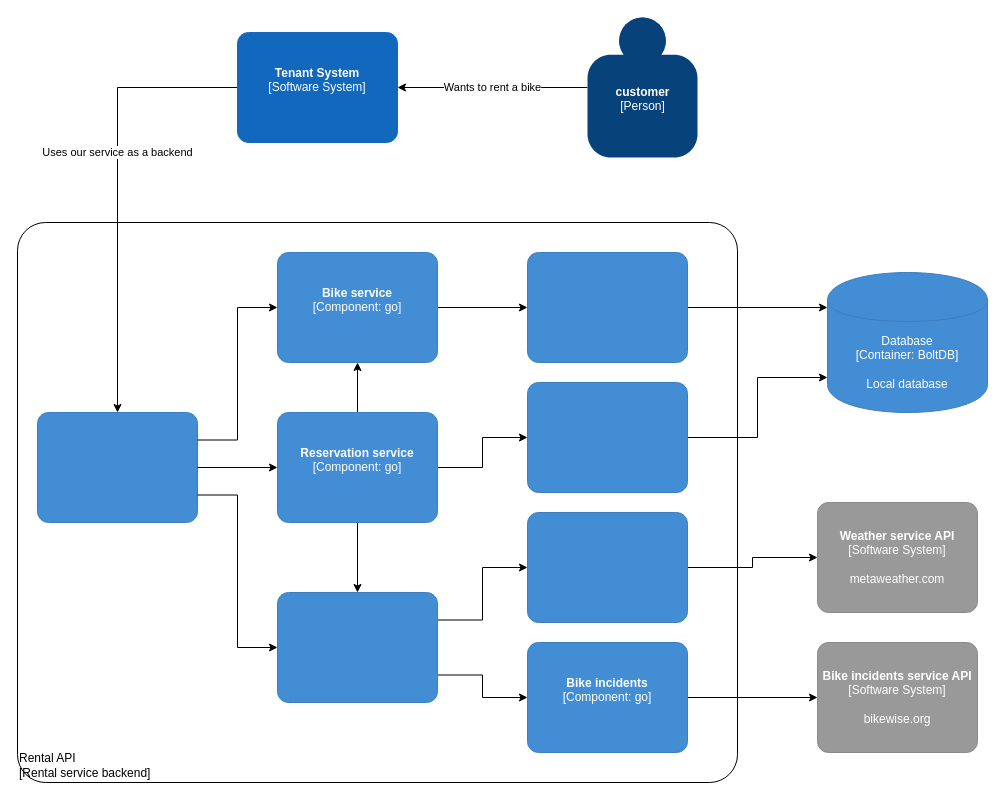
This 1005x800 diagram has some shape labels left out. Each missing label, with the centre of its shape:
API [Component: go]: the point at 117,467
Bike repository [Component: go]: the point at 607,307
Discount service [Component: go]: the point at 357,647
Reservations repository [Component: go]: the point at 607,437
Weather service [Component: go]: the point at 607,567
